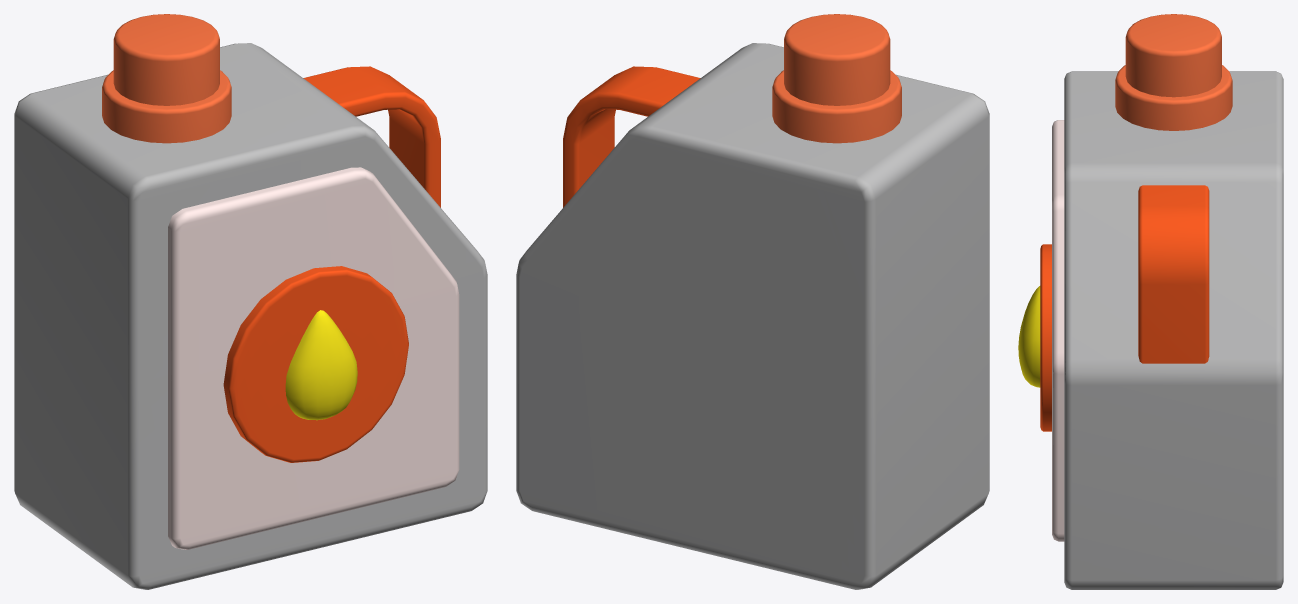
The model's file is Public_5_Car_Oil_1.glb.
The picture shows the model from 3 angles, left to right: view 1: azimuth 30°, elevation 25°; view 2: azimuth 150°, elevation 25°; view 3: azimuth 270°, elevation 25°; orthographic projection. The views are drawn at different scales.
Parts seen in each view (by area): view 1: Public_5_Car_Oil_1; view 2: Public_5_Car_Oil_1; view 3: Public_5_Car_Oil_1.
Boxes of the visible parts, x1,y1,x2,y2 form: Public_5_Car_Oil_1: (14, 14, 487, 589); Public_5_Car_Oil_1: (516, 14, 989, 589); Public_5_Car_Oil_1: (1018, 14, 1283, 589).
Size of the model in its own units: 1.03 by 1.36 by 0.7299.
1 material, 1 textured.
